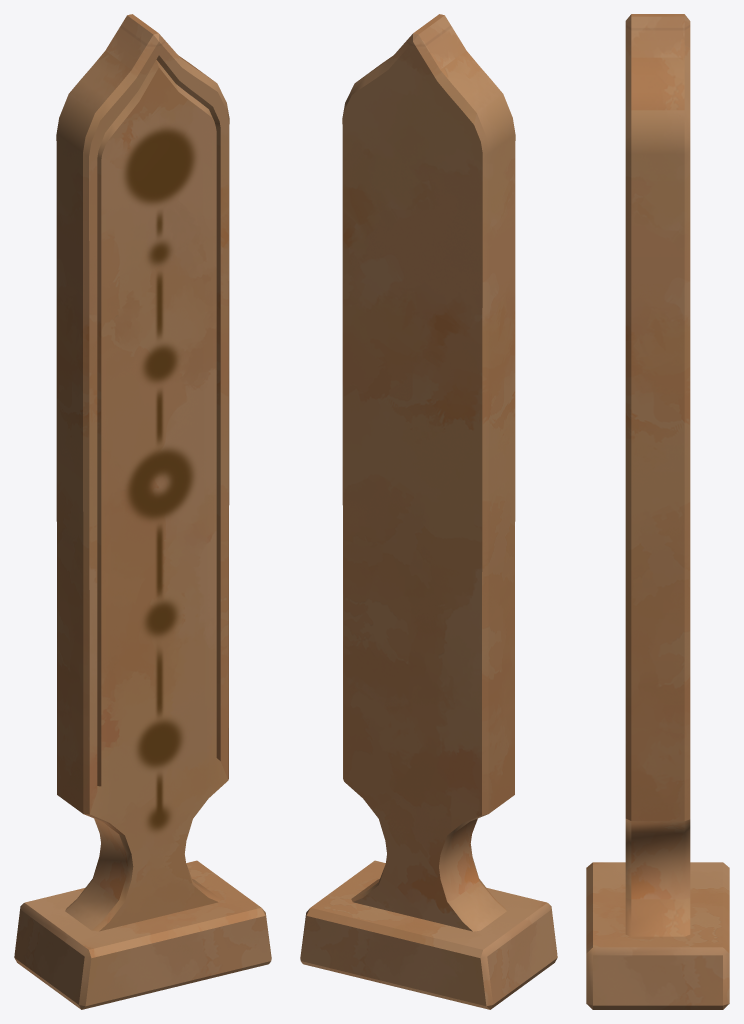
Rendered from fbx_Tablet_01.fbx.
The picture shows the model from 3 angles, left to right: view 1: azimuth 30°, elevation 25°; view 2: azimuth 150°, elevation 25°; view 3: azimuth 270°, elevation 25°; orthographic projection.
Parts seen in each view (by area): view 1: Cube.002; view 2: Cube.002; view 3: Cube.002.
Part boxes in pixels (x1,y1,x2,y2): Cube.002: (14,14,271,1009); Cube.002: (300,14,557,1009); Cube.002: (586,14,729,1009).
Size of the model in its own units: 71.97 by 335 by 45.9.
